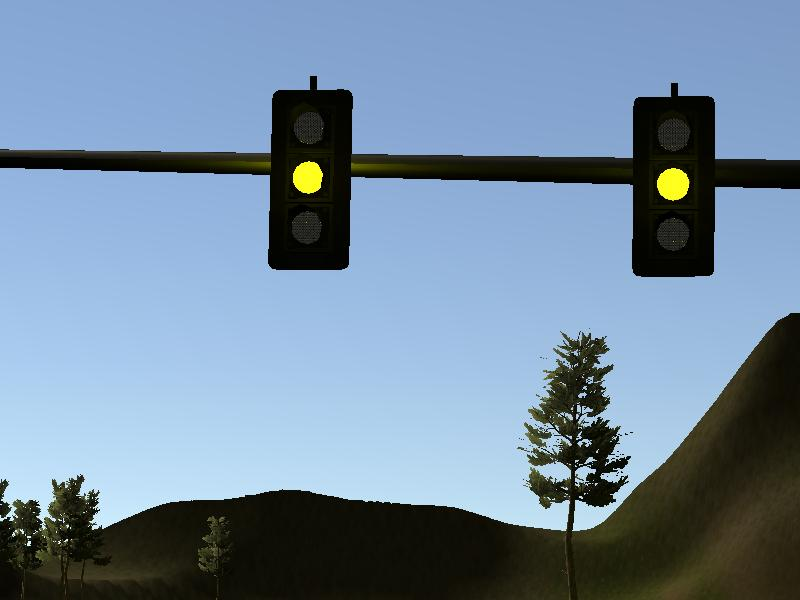yellow: (268, 87, 352, 271), (633, 96, 717, 280)
